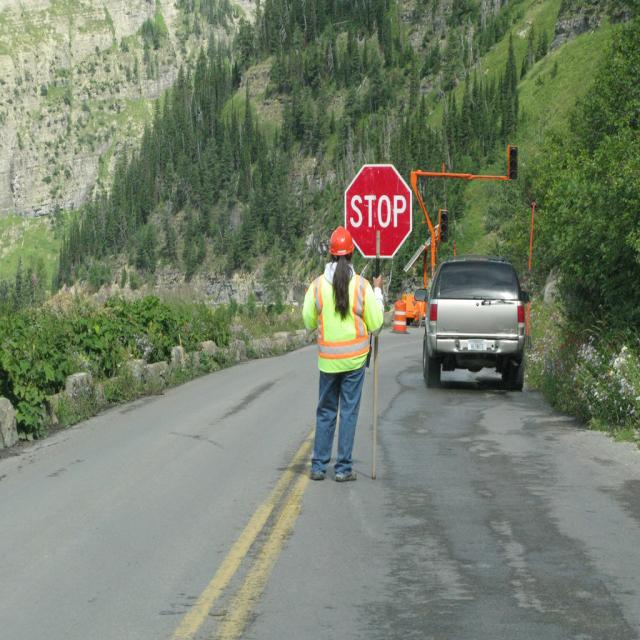Stop-sign: (343, 162, 412, 260)
